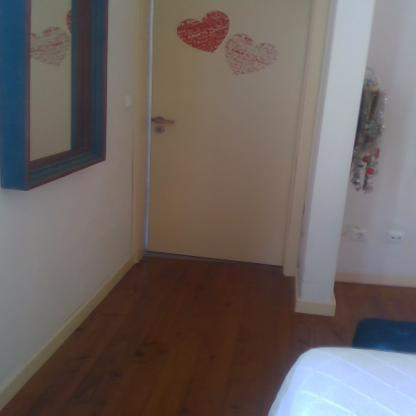door: (151, 0, 290, 262)
lever: (152, 117, 181, 125)
